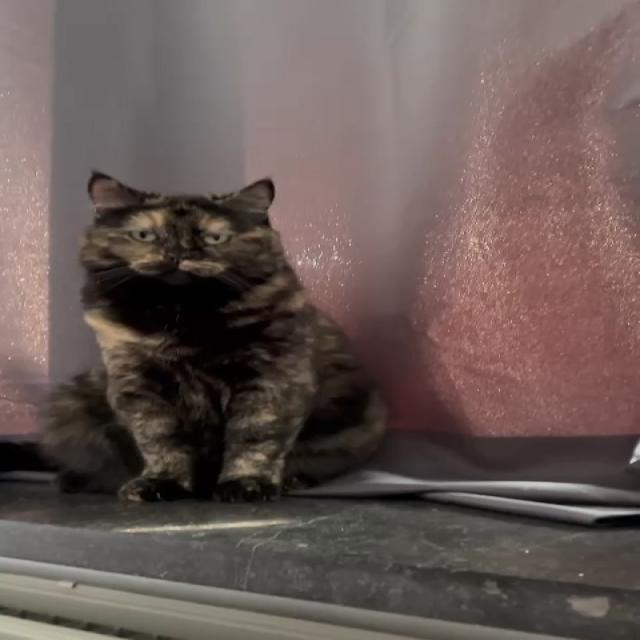authorized: (36, 169, 391, 503)
